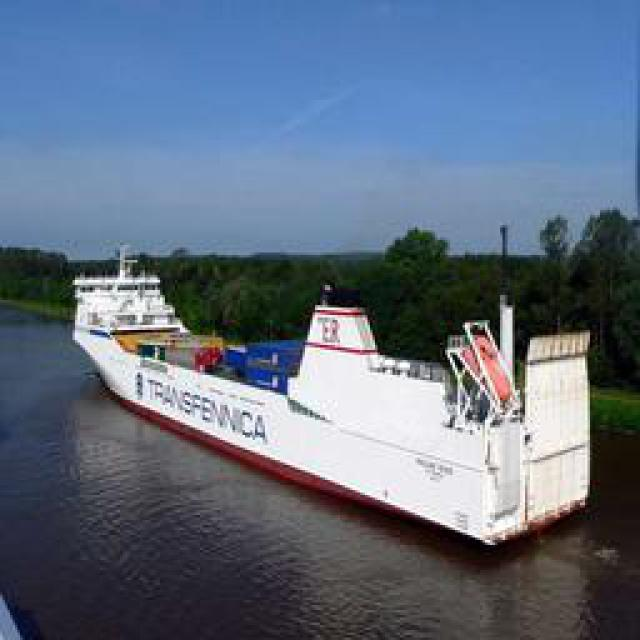Ship: (73, 266, 598, 564)
